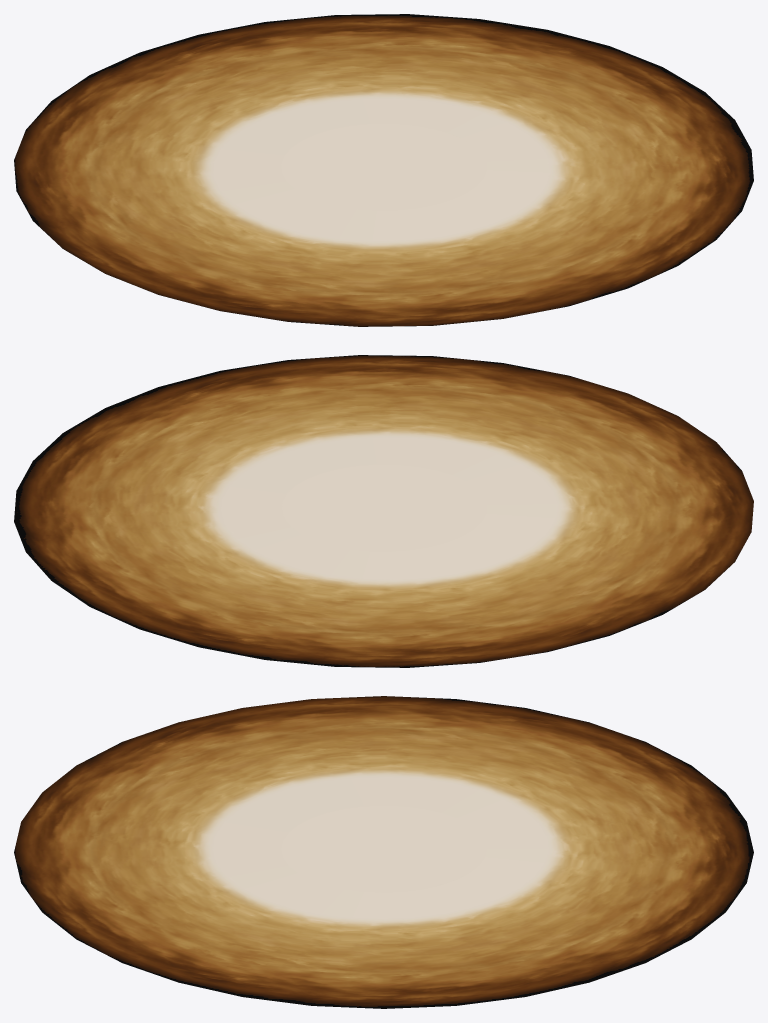
File: BlackHoleRingHorizontal.fbx
3 renders of one model, top to bottom at view 1: azimuth 30°, elevation 25°; view 2: azimuth 150°, elevation 25°; view 3: azimuth 270°, elevation 25°, orthographic.
Visible parts, largest first — view 1: RingHorizontal; view 2: RingHorizontal; view 3: RingHorizontal.
Boxes of the visible parts, left/top/right/bottom form: RingHorizontal: left=14, top=14, right=753, bottom=326; RingHorizontal: left=14, top=355, right=753, bottom=667; RingHorizontal: left=14, top=696, right=753, bottom=1008.
Size of the model in its own units: 128 by 1.31 by 128.
